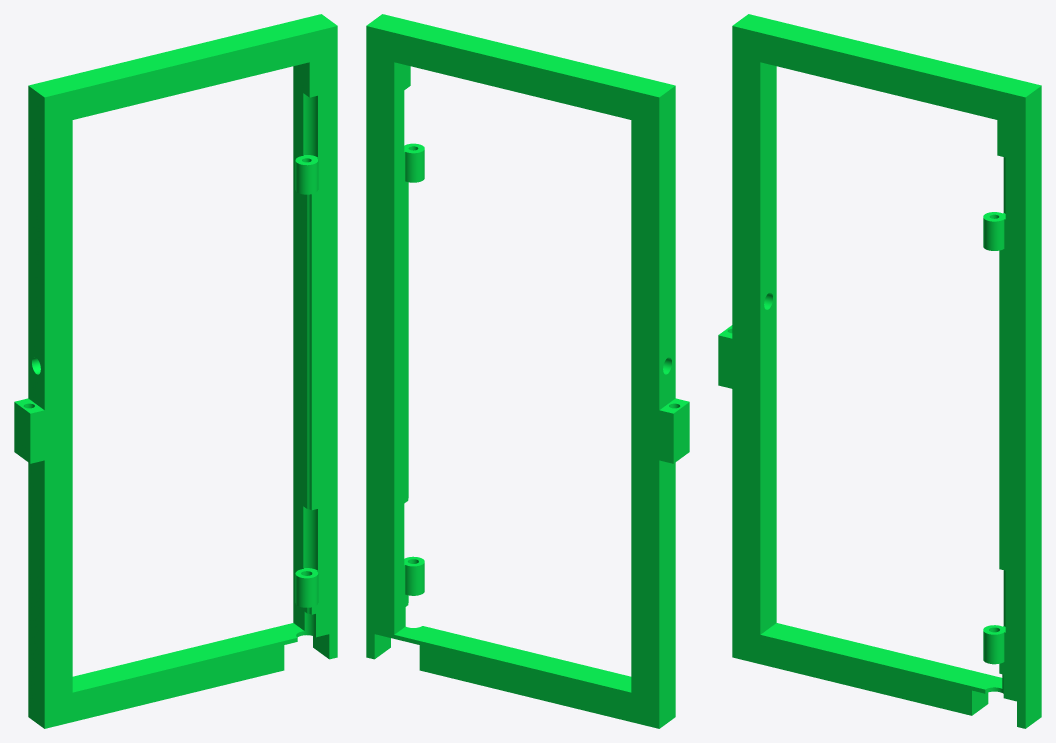
The model's file is DoorFrame.fbx.
The picture shows the model from 3 angles, left to right: view 1: azimuth 30°, elevation 25°; view 2: azimuth 150°, elevation 25°; view 3: azimuth 330°, elevation 25°; orthographic projection.
Parts seen in each view (by area): view 1: DoorFrame; view 2: DoorFrame; view 3: DoorFrame.
Part boxes in pixels (x1,y1,x2,y2): DoorFrame: (14, 14, 337, 728); DoorFrame: (366, 14, 689, 728); DoorFrame: (718, 14, 1041, 728).
Bounding box in the file's own units: 10900 × 21400 × 1349.
